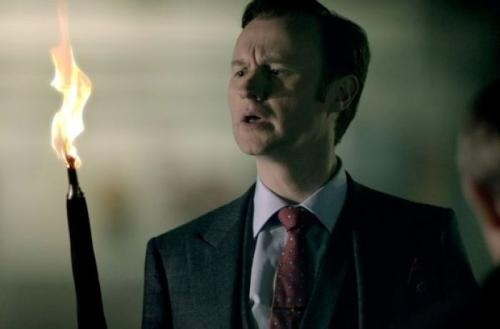fire: (47, 11, 93, 173)
